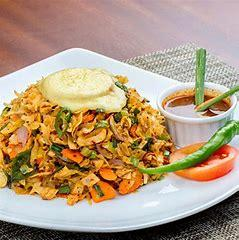Kottu: (2, 51, 155, 205)
